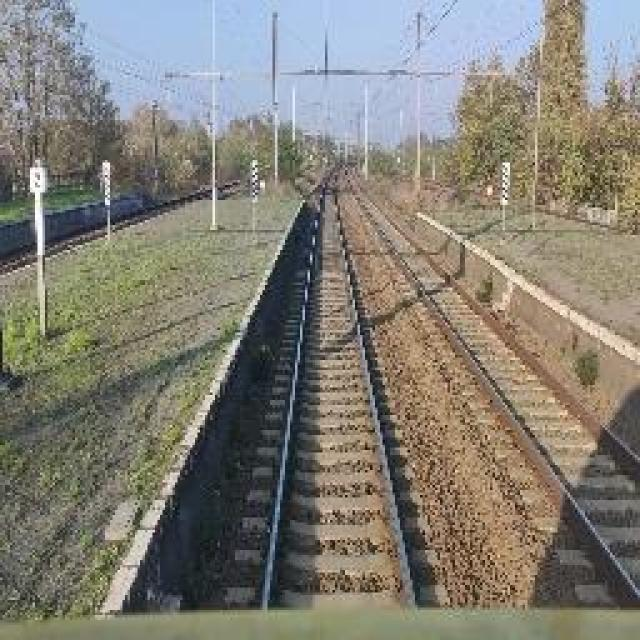rail: (345, 167, 640, 608), (220, 155, 456, 617)
